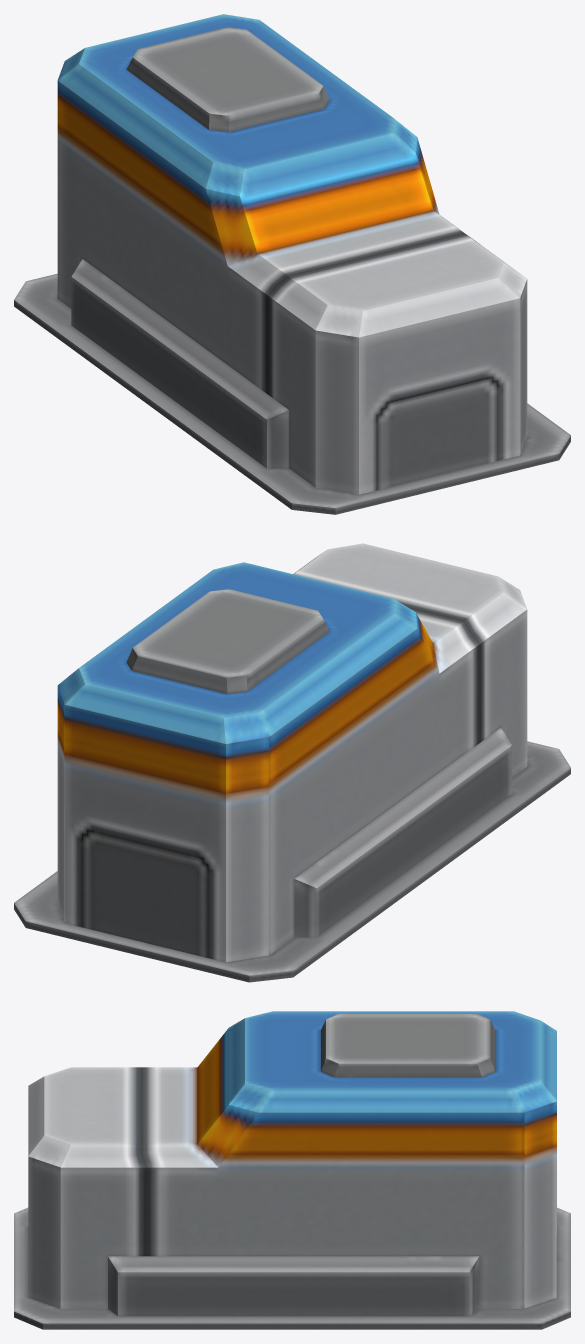
File: allies_house_6.FBX
3 views of the same model, one above another, from view 1: azimuth 30°, elevation 25°; view 2: azimuth 150°, elevation 25°; view 3: azimuth 270°, elevation 25° (orthographic). The views are drawn at different scales.
Visible parts, largest first — view 1: allies_house_6; view 2: allies_house_6; view 3: allies_house_6.
Part boxes in pixels (left/top/right/bottom): allies_house_6: left=14, top=14, right=570, bottom=514; allies_house_6: left=14, top=543, right=570, bottom=982; allies_house_6: left=14, top=1011, right=570, bottom=1329.
Size of the model in its own units: 819 by 716 by 1575.
